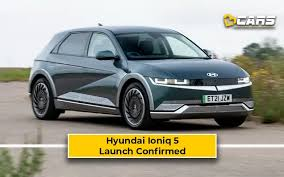Honda Ioniq: (25, 20, 259, 134)
